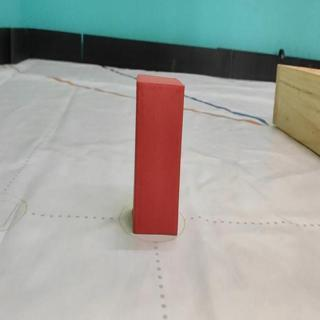redbox: (133, 71, 185, 237)
